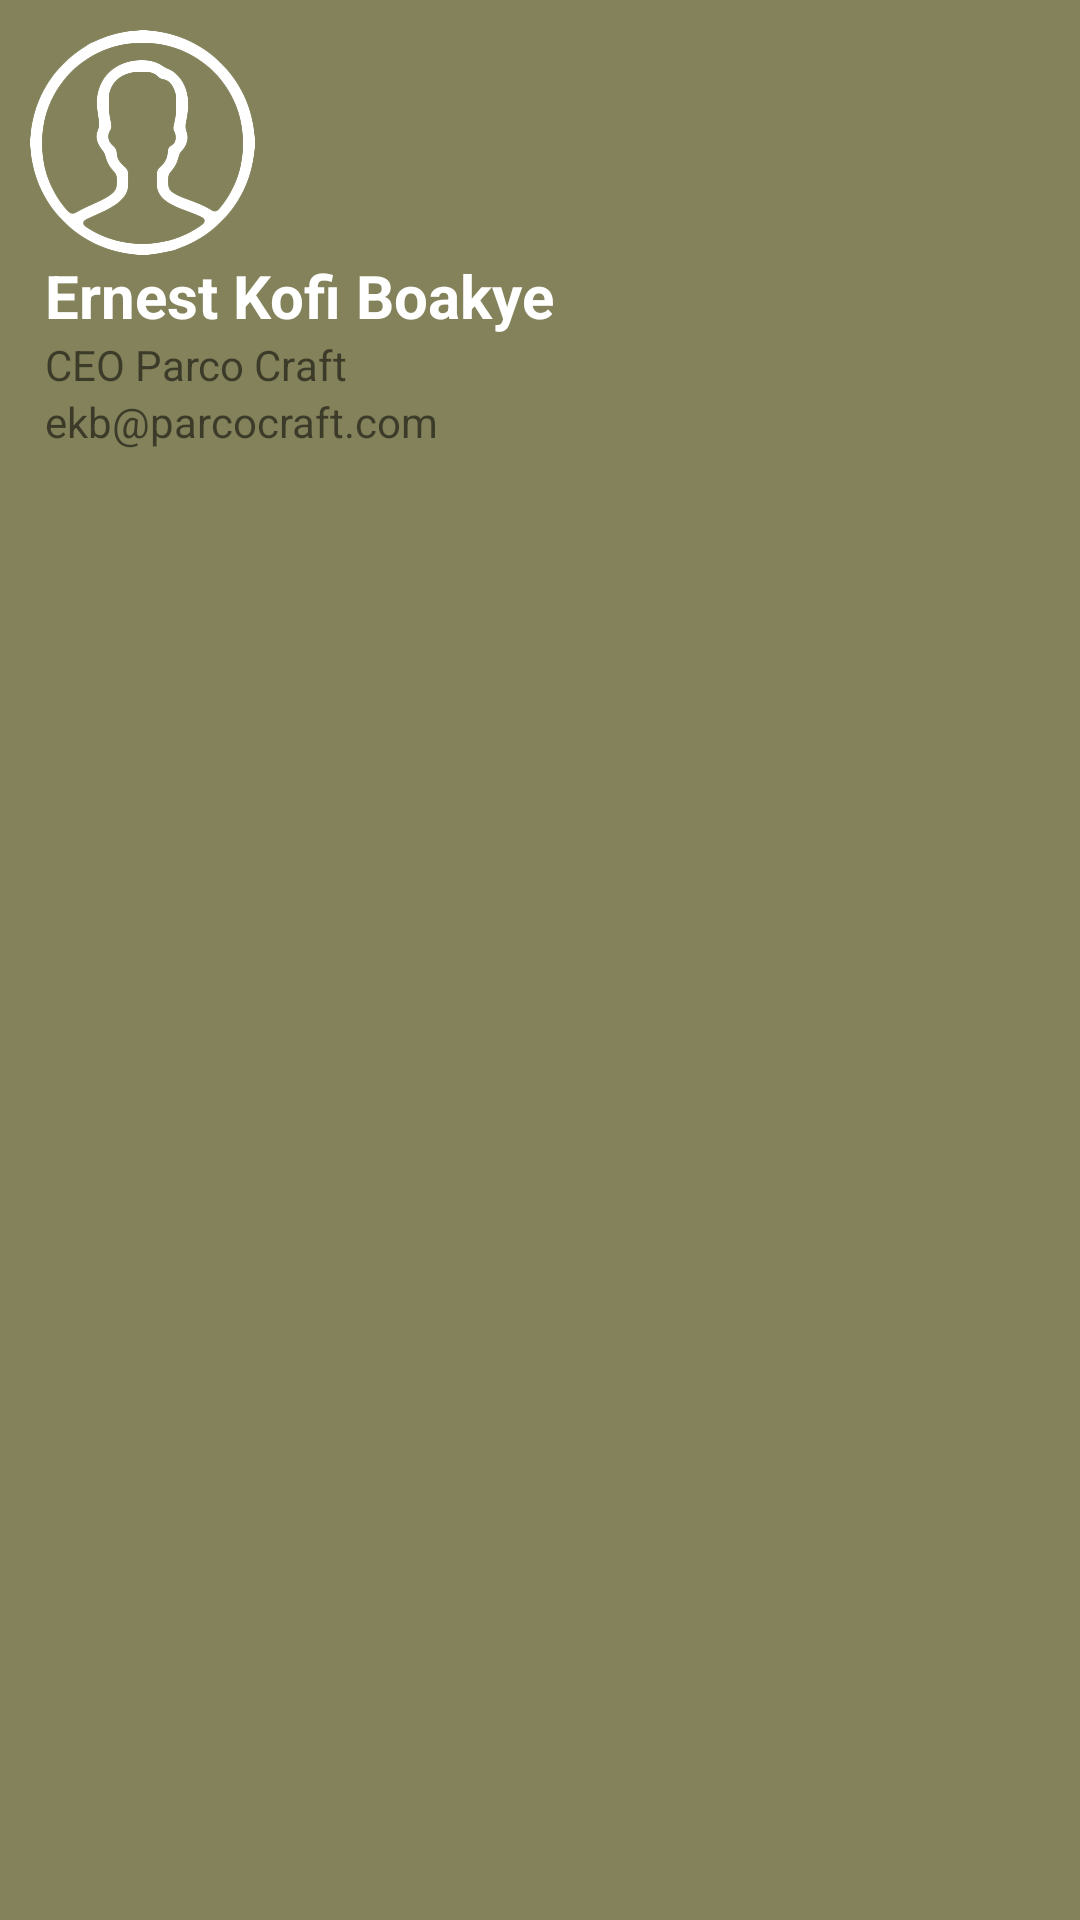

Point at icon controls on the screen. Image size 1080x1920, points as (x=x, y=y).
avatarwhite: (x=142, y=142)
